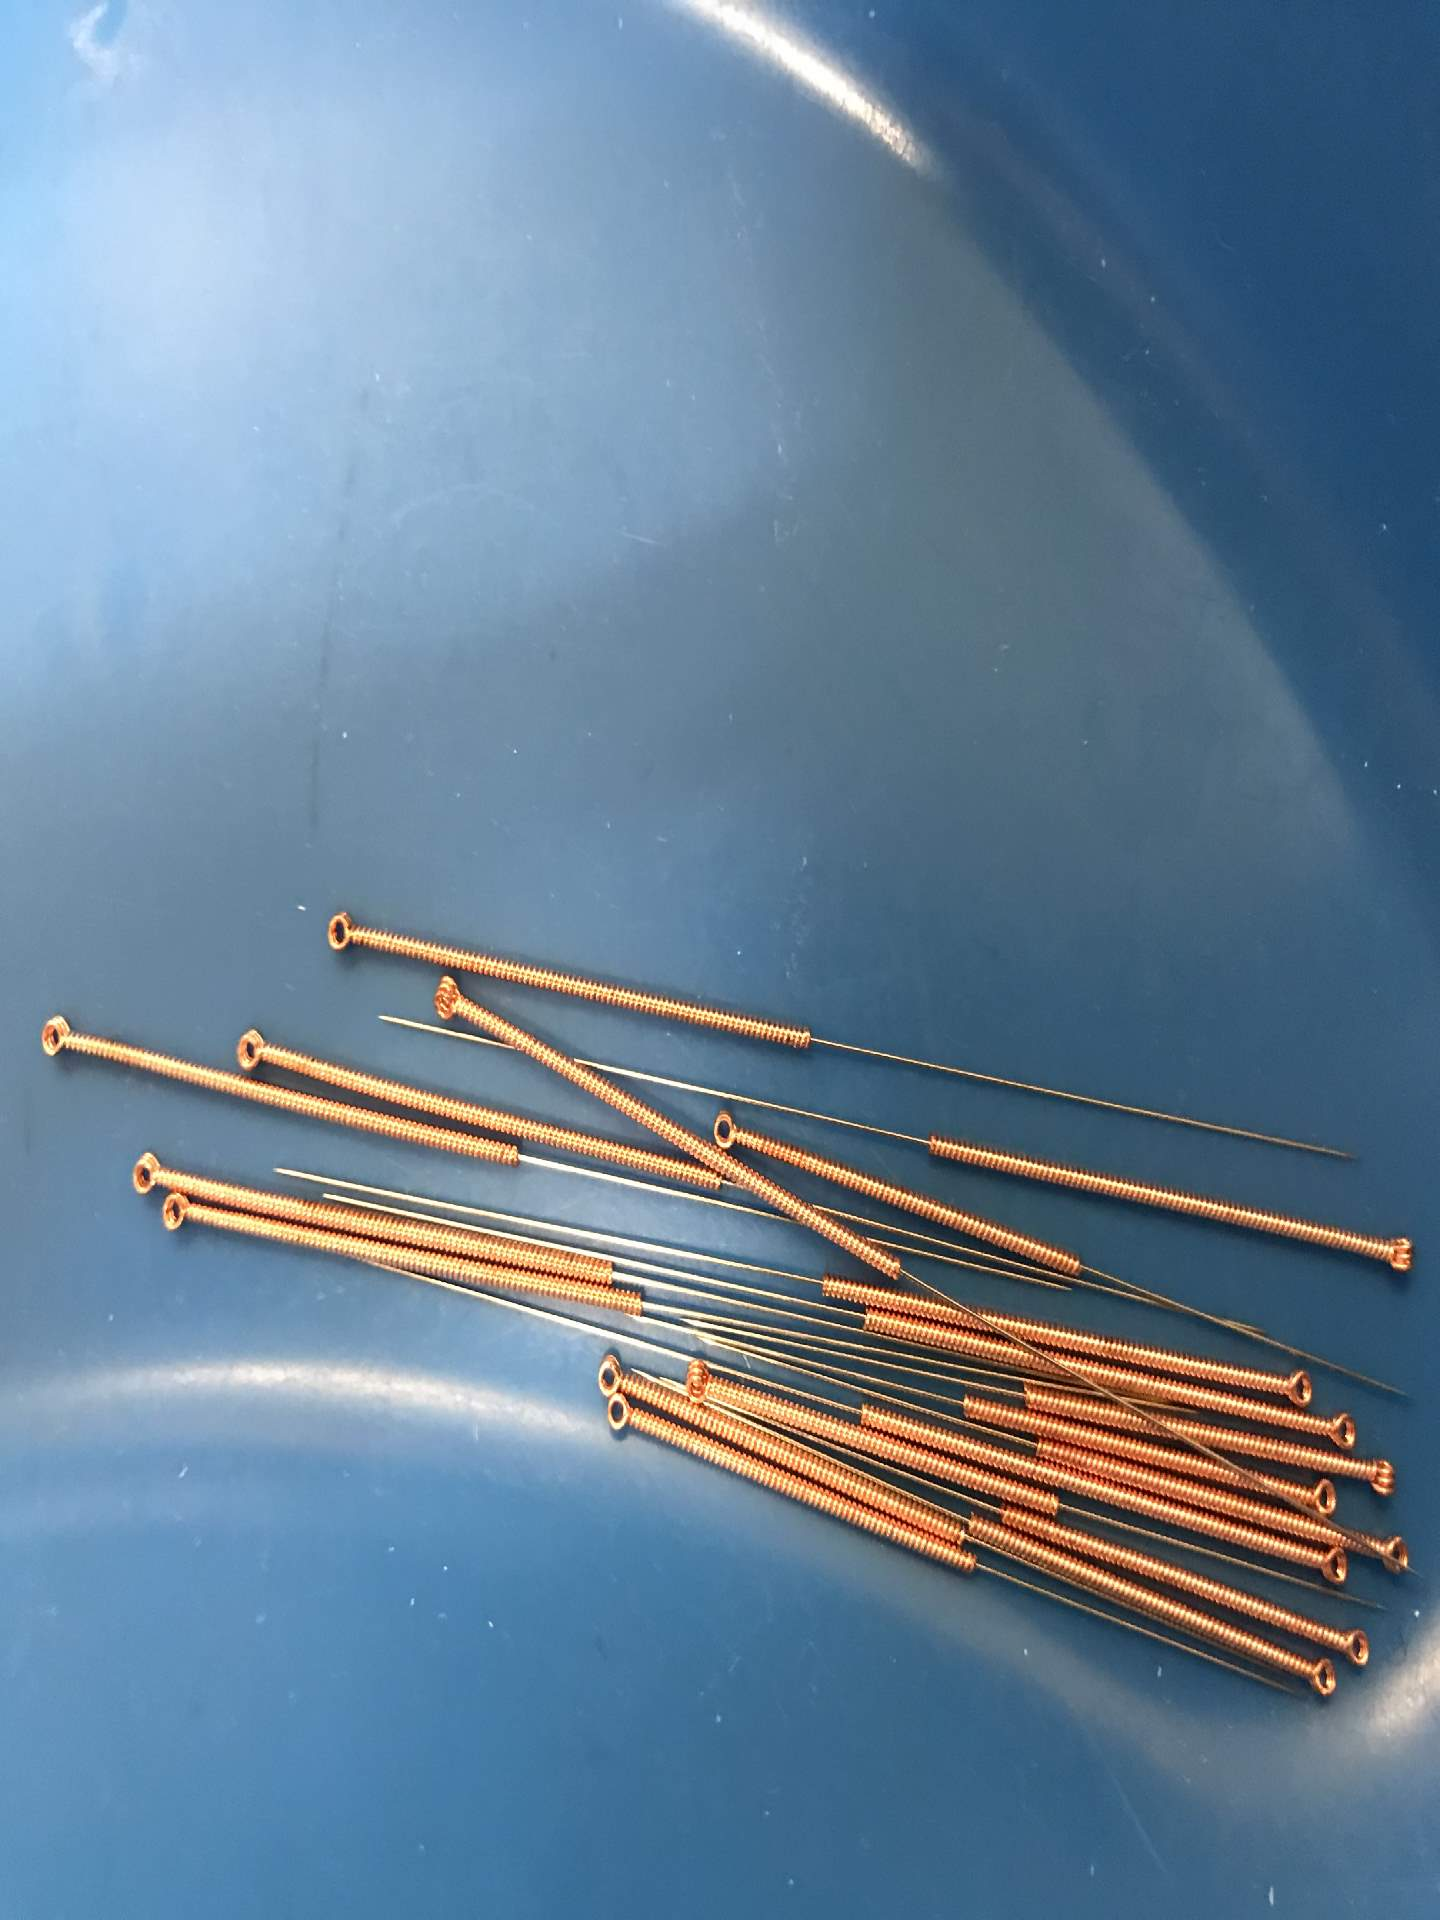needle: (313, 900, 374, 969), (30, 1007, 85, 1067), (1370, 1223, 1422, 1287), (115, 1141, 168, 1200), (1363, 1525, 1419, 1580), (225, 1020, 278, 1076), (1292, 1652, 1345, 1704), (424, 968, 467, 1027), (1268, 1362, 1321, 1411), (588, 1344, 635, 1398), (150, 1185, 198, 1237), (1358, 1448, 1402, 1504), (681, 1358, 728, 1407), (706, 1104, 752, 1155), (1311, 1544, 1358, 1590), (1333, 1621, 1376, 1671), (1298, 1473, 1342, 1521), (1322, 1404, 1363, 1451), (604, 1389, 641, 1439)
